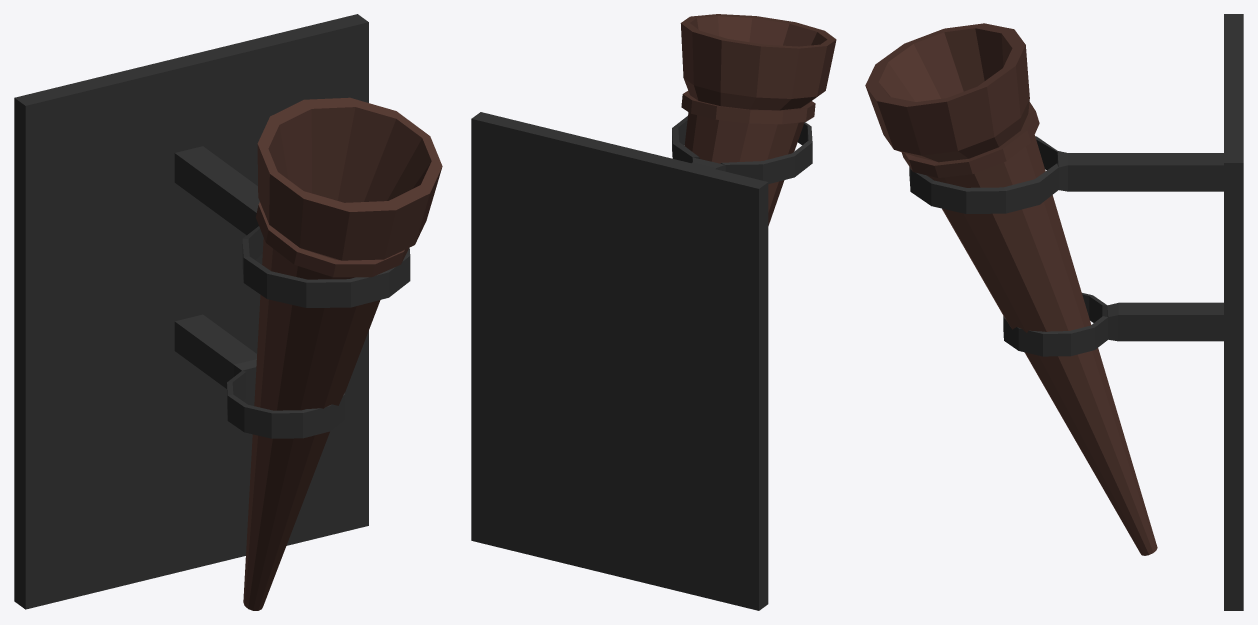
Rendered from torchset.fbx.
3 renders of one model, left to right at view 1: azimuth 30°, elevation 25°; view 2: azimuth 150°, elevation 25°; view 3: azimuth 270°, elevation 25°, orthographic. The views are drawn at different scales.
Parts seen in each view (by area): view 1: torchSet; view 2: torchSet; view 3: torchSet.
Boxes of the visible parts, x1,y1,x2,y2 form: torchSet: [14, 14, 442, 610]; torchSet: [471, 14, 836, 610]; torchSet: [865, 14, 1243, 610].
Size of the model in its own units: 111 by 174 by 119.
